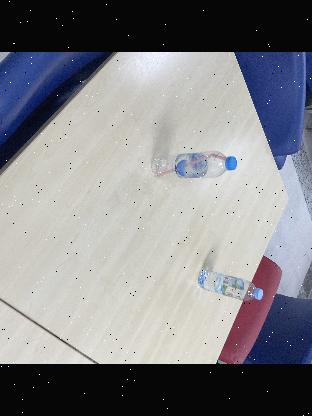Plastic Bottle: (149, 150, 237, 182), (197, 270, 264, 302)
